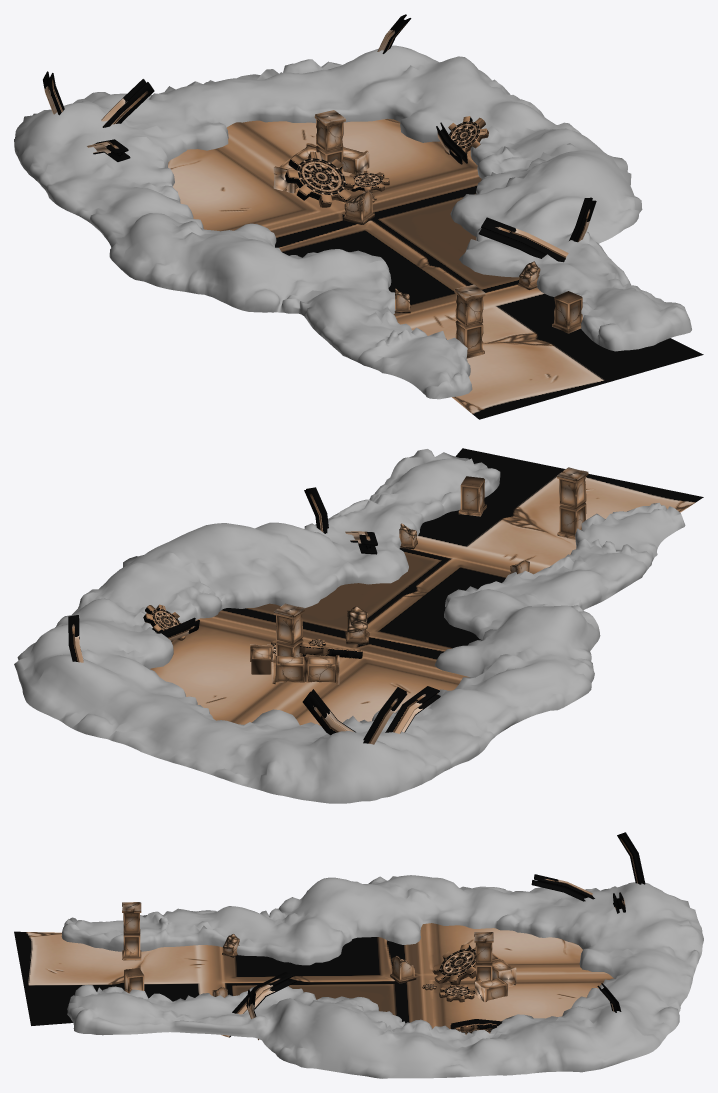
The model's file is map01_mission_01.fbx.
The picture shows the model from 3 angles, top to bottom: view 1: azimuth 30°, elevation 25°; view 2: azimuth 150°, elevation 25°; view 3: azimuth 270°, elevation 25°; orthographic projection. The views are drawn at different scales.
Visible parts, largest first — view 1: map_01_miss__01_2_map_mission_01_02, map_groud, pCylinder1, pCube3, colonne_caree_00_haut2, colonne_caree_00_bas1, colonne_caree_00_haut, pCube4, pCylinder2, colonne_carssee_00_colonne_cassee, colonne_caree_00_bas4, pCylinder3; view 2: map_01_miss__01_2_map_mission_01_02, map_groud, pCube5, colonne_caree_00_haut2, colonne_caree_00_haut, colonne_caree_00_bas1, colonne_caree_00_bas3, colonne_caree_00_haut1, pCube4, pCube6, colonne_carssee_00_colonne_cassee, colonne_caree_00_bas4 (+5 smaller); view 3: map_01_miss__01_2_map_mission_01_02, map_groud, pCylinder1, pCube3, pCube5, colonne_caree_00_bas2, colonne_caree_00_haut, colonne_caree_00_haut2, pCube6, colonne_carssee_00_colonne_cassee, colonne_caree_00_bas4, colonne_caree_00_haut1 (+2 smaller).
Part boxes in pixels (x1,y1,x2,y2): map_01_miss__01_2_map_mission_01_02: [14, 45, 691, 399]; map_groud: [168, 118, 703, 419]; pCylinder1: [285, 151, 355, 207]; pCube3: [478, 217, 568, 262]; colonne_caree_00_haut2: [454, 284, 485, 326]; colonne_caree_00_bas1: [552, 291, 582, 333]; colonne_caree_00_haut: [314, 110, 345, 152]; pCube4: [101, 79, 154, 127]; pCylinder2: [444, 116, 488, 154]; colonne_carssee_00_colonne_cassee: [343, 190, 374, 224]; colonne_caree_00_bas4: [455, 320, 484, 358]; pCylinder3: [349, 170, 389, 191]; map_01_miss__01_2_map_mission_01_02: [14, 449, 685, 803]; map_groud: [150, 448, 703, 726]; pCube5: [385, 686, 440, 733]; colonne_caree_00_haut2: [557, 467, 588, 508]; colonne_caree_00_haut: [273, 603, 304, 644]; colonne_caree_00_bas1: [458, 476, 486, 516]; colonne_caree_00_bas3: [306, 655, 339, 684]; colonne_caree_00_haut1: [272, 654, 305, 684]; pCube4: [302, 689, 355, 735]; pCube6: [363, 687, 407, 744]; colonne_carssee_00_colonne_cassee: [345, 606, 369, 644]; colonne_caree_00_bas4: [557, 503, 586, 539]; map_01_miss__01_2_map_mission_01_02: [61, 875, 703, 1078]; map_groud: [14, 923, 613, 1034]; pCylinder1: [432, 943, 475, 985]; pCube3: [221, 972, 296, 1037]; pCube5: [531, 874, 594, 901]; colonne_caree_00_bas2: [475, 978, 507, 1002]; colonne_caree_00_haut: [474, 932, 493, 964]; colonne_caree_00_haut2: [122, 902, 141, 934]; pCube6: [617, 832, 645, 884]; colonne_carssee_00_colonne_cassee: [390, 956, 416, 983]; colonne_caree_00_bas4: [122, 929, 141, 960]; colonne_caree_00_haut1: [492, 959, 516, 986].
Size of the model in its own units: 1588 by 335 by 2385.
